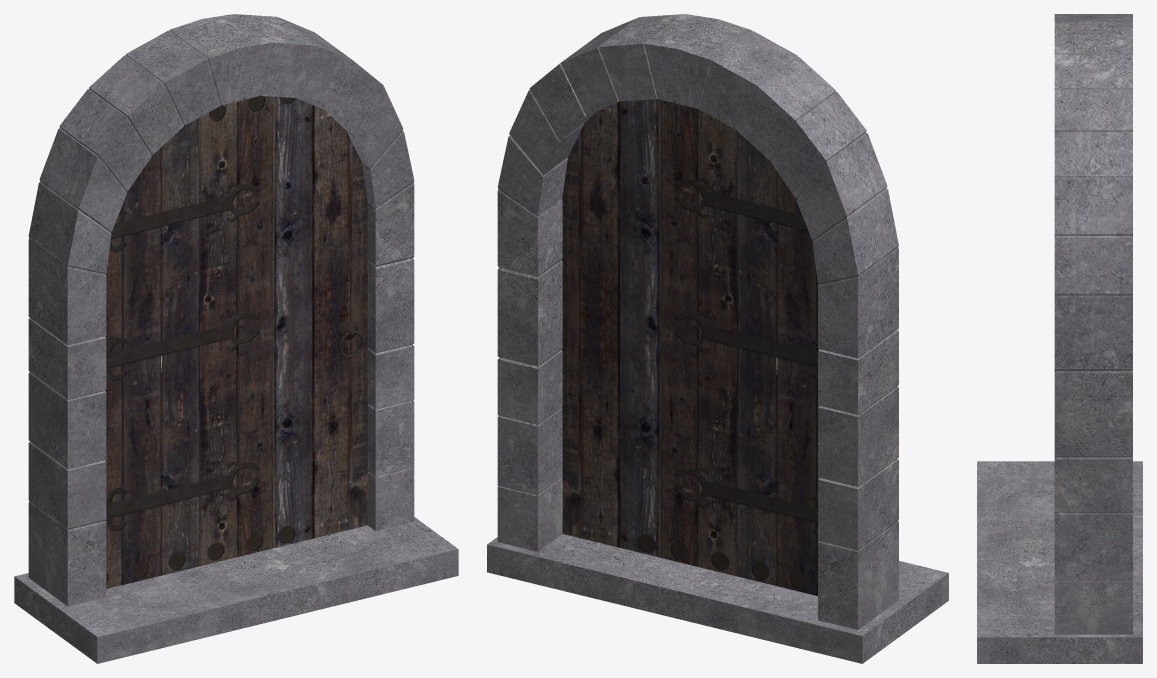
The model's file is medievaldoor2.glb.
3 views of the same model, side by side, from view 1: azimuth 30°, elevation 25°; view 2: azimuth 150°, elevation 25°; view 3: azimuth 270°, elevation 25° (orthographic). The views are drawn at different scales.
Visible parts, largest first — view 1: Door2-col, Door2Frame-col, Door2Step-col; view 2: Door2-col, Door2Frame-col, Door2Step-col; view 3: Door2Frame-col, Door2Step-col.
Boxes of the visible parts, x1,y1,x2,y2 form: Door2-col: (105,95,368,588); Door2Frame-col: (28,14,414,606); Door2Step-col: (14,517,458,663); Door2-col: (561,99,818,595); Door2Frame-col: (497,14,898,629); Door2Step-col: (487,534,948,663); Door2Frame-col: (1054,14,1132,634); Door2Step-col: (977,461,1142,663).
Bounding box in the file's own units: 1.71 × 2.46 × 0.683.
Materials: 3 (3 with a texture image).
